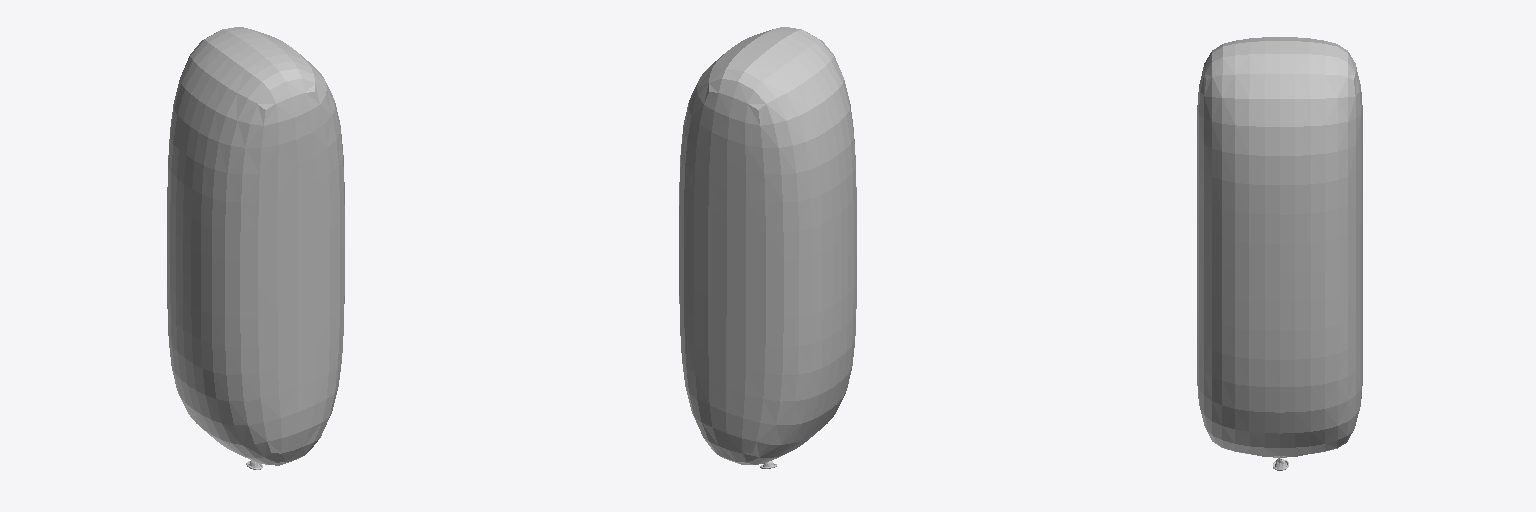
File: ballooni.obj
3 views of the same model, side by side, from view 1: azimuth 30°, elevation 25°; view 2: azimuth 150°, elevation 25°; view 3: azimuth 270°, elevation 25° (orthographic).
Visible parts, largest first — view 1: Balloon_Alphabet_Subdivision_I_Alphabet_I; view 2: Balloon_Alphabet_Subdivision_I_Alphabet_I; view 3: Balloon_Alphabet_Subdivision_I_Alphabet_I.
Part boxes in pixels (x1,y1,x2,y2): Balloon_Alphabet_Subdivision_I_Alphabet_I: (167, 27, 344, 469); Balloon_Alphabet_Subdivision_I_Alphabet_I: (679, 27, 856, 468); Balloon_Alphabet_Subdivision_I_Alphabet_I: (1197, 37, 1362, 470).
Size of the model in its own units: 18.25 by 50.61 by 17.93.